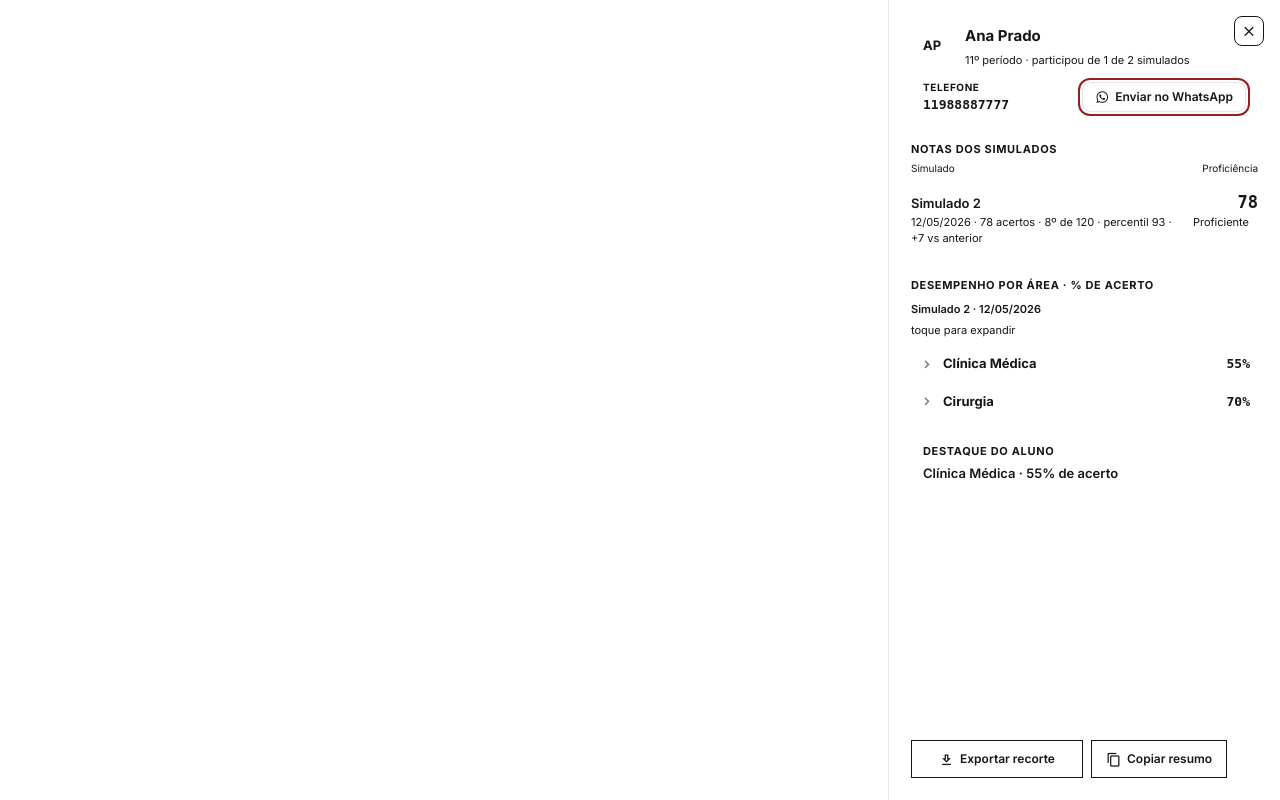
Scenario: DrawerAluno — desempenho por área/especialidade/tema (drill-down) › grande área expande para especialidade, que expande para o tema — com % em todos os níveis
This screenshot has width=1280, height=800.
Click the button with test id "drawer-grande-area-Clínica Médica".
click(1084, 364)  # box [911, 346, 1258, 382]
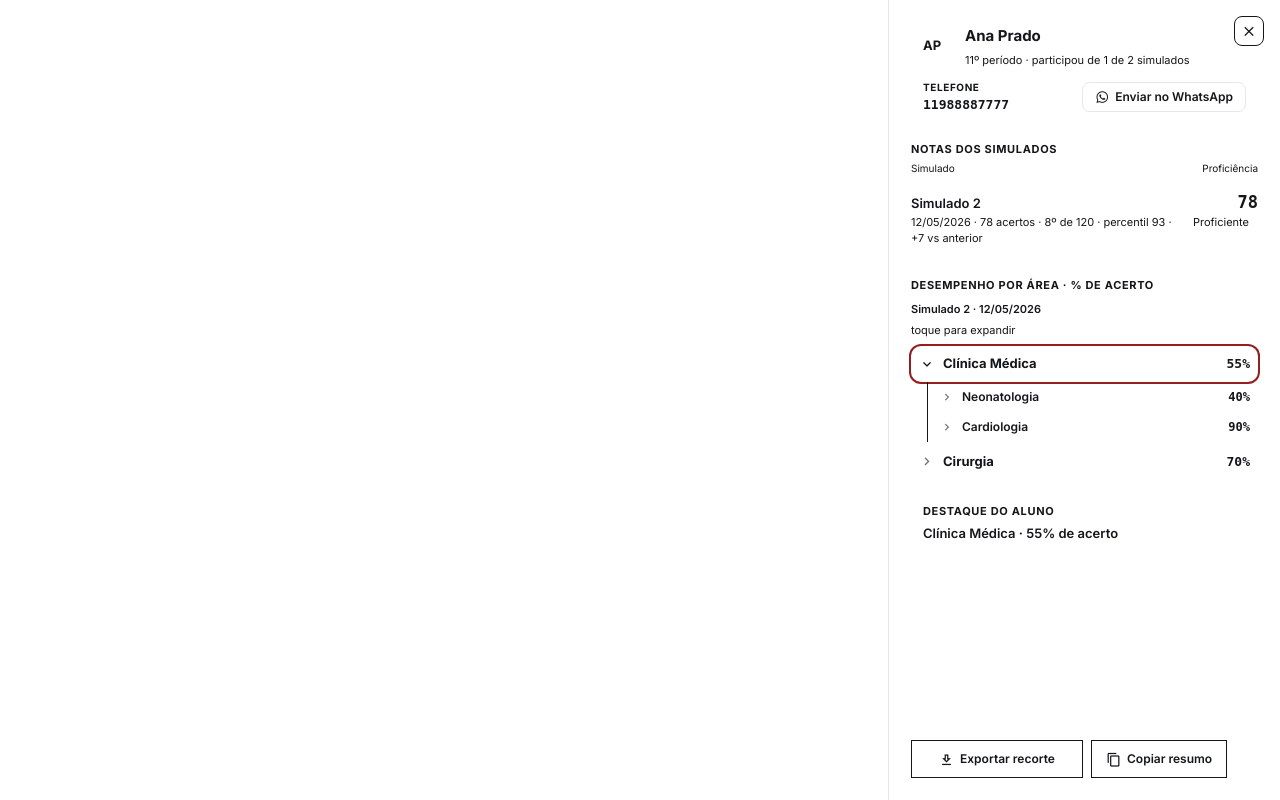
Check: the button with test id "drawer-especialidade-Neonatologia" is shown
Check: the button with test id "drawer-especialidade-Cardiologia" is shown, box [932, 412, 1258, 442]
Check: the button with test id "drawer-especialidade-Neonatologia" shows "40%"
Click the button with test id "drawer-especialidade-Neonatologia".
click(1001, 396)  # box [932, 382, 1258, 412]
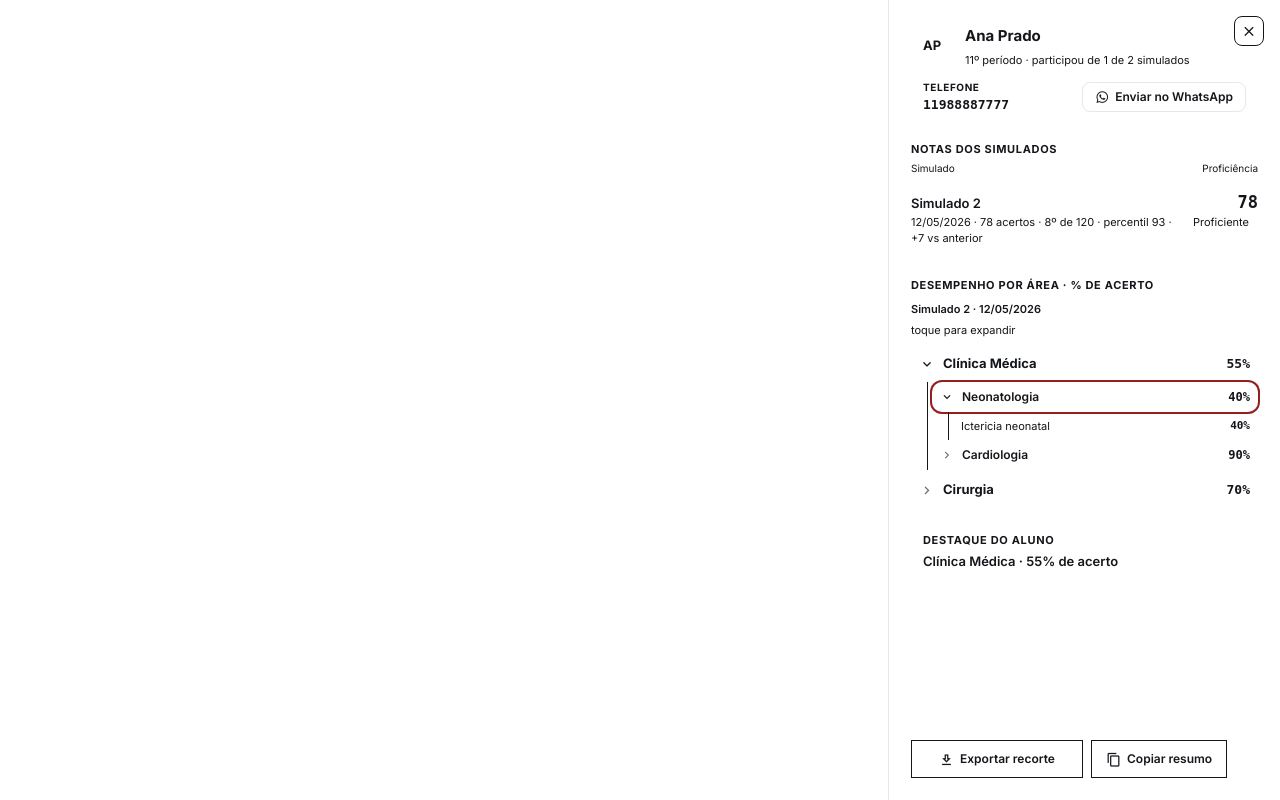
Check: the list item with test id "drawer-tema-Ictericia neonatal" shows "40%", box [1230, 418, 1250, 432]
